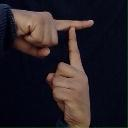hand: (45, 26, 91, 127), (5, 8, 94, 57)
